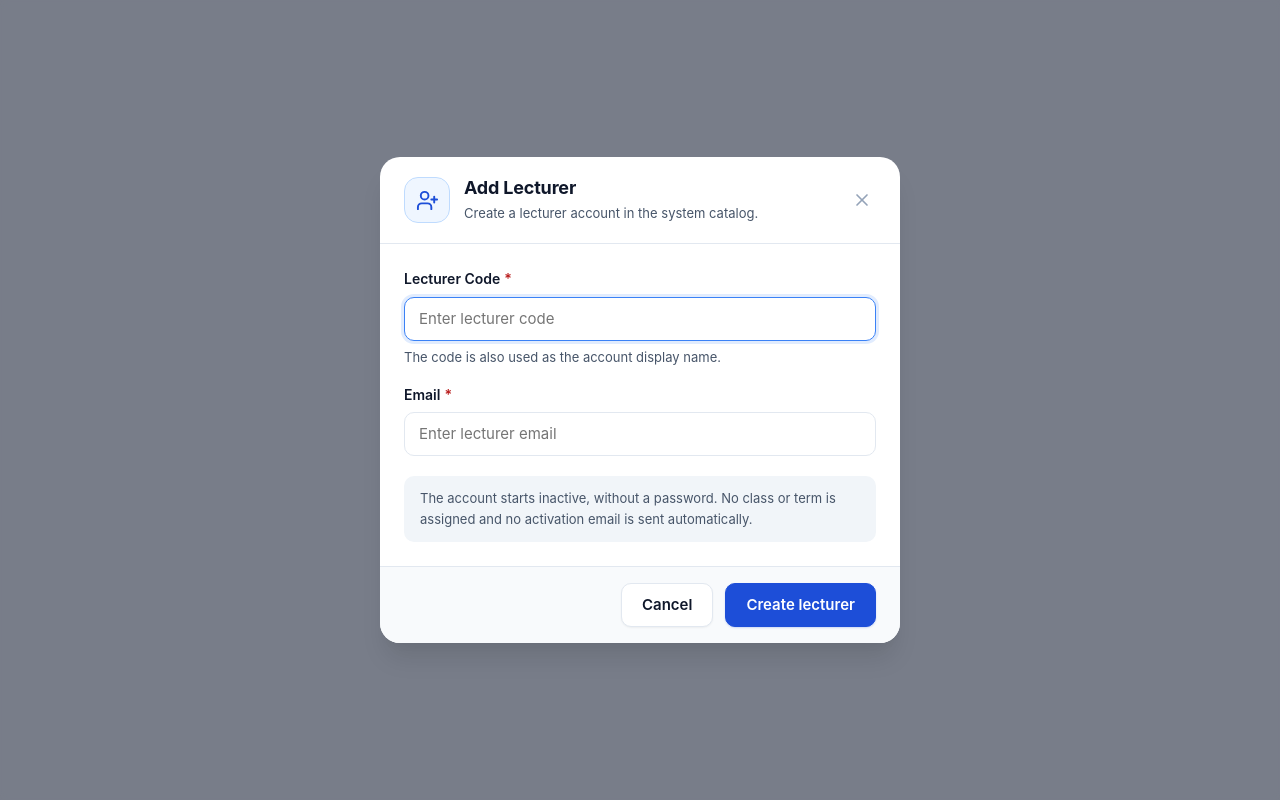
Test: Add Lecturer › validates input lengths and formats before sending
The image size is (1280, 800).
Click the button "Create lecturer": coordinates (801, 605) [725,583,876,627]
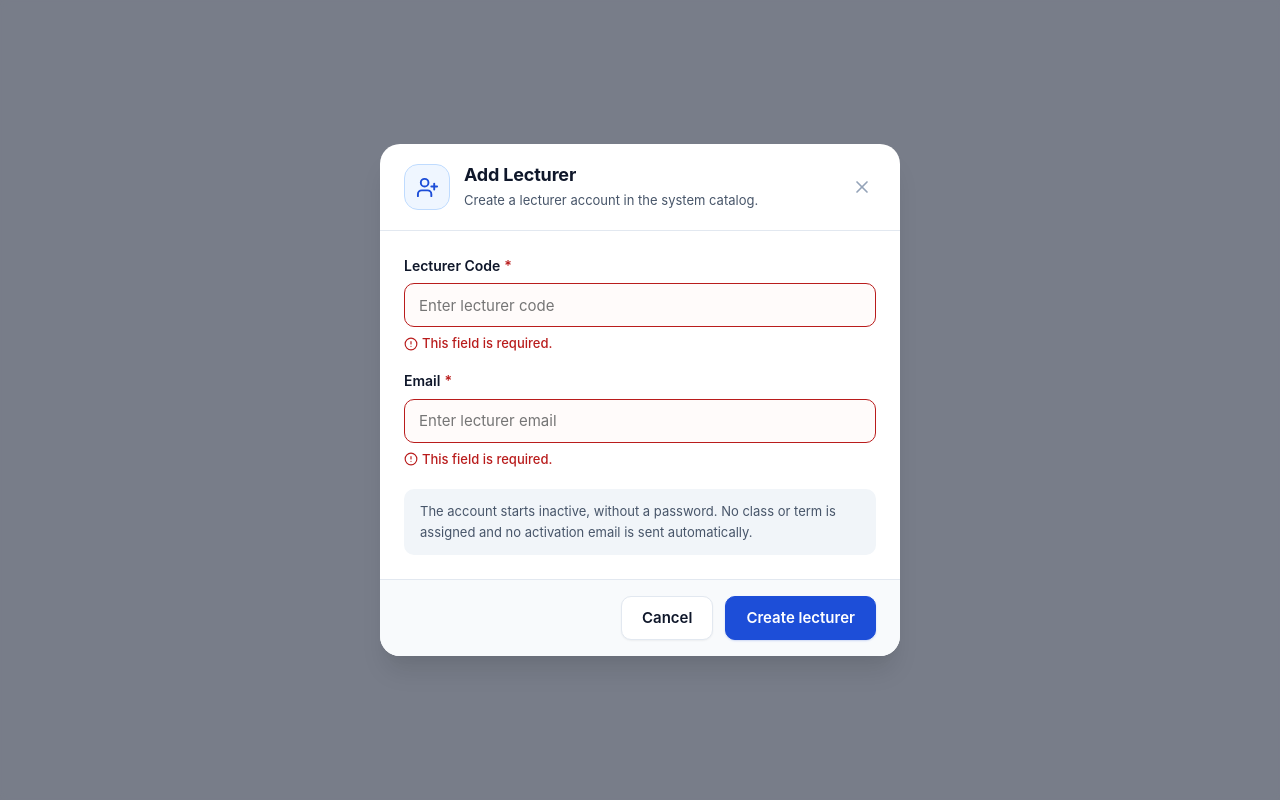
Expected: the text "This field is required." below "Lecturer Code" is shown, [422,335,552,351]
